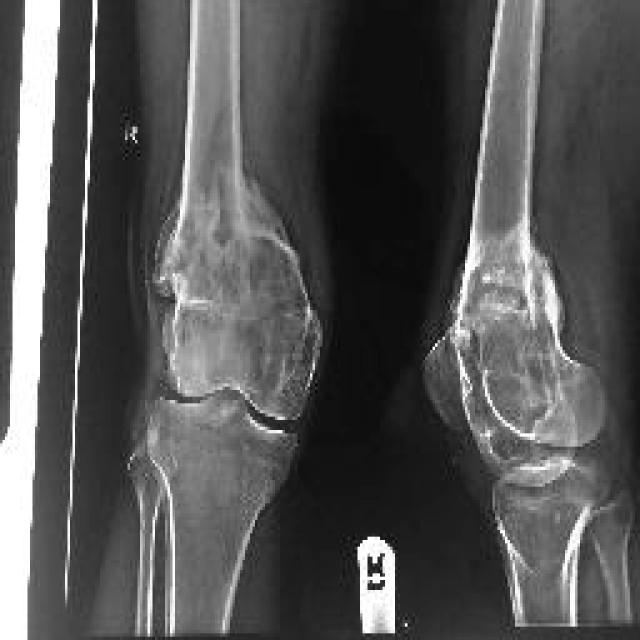bone-cancer: (151, 165, 320, 398), (451, 222, 585, 458)
